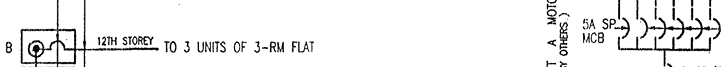Single Phase Tap-Off Unit: (18, 27, 77, 66)
